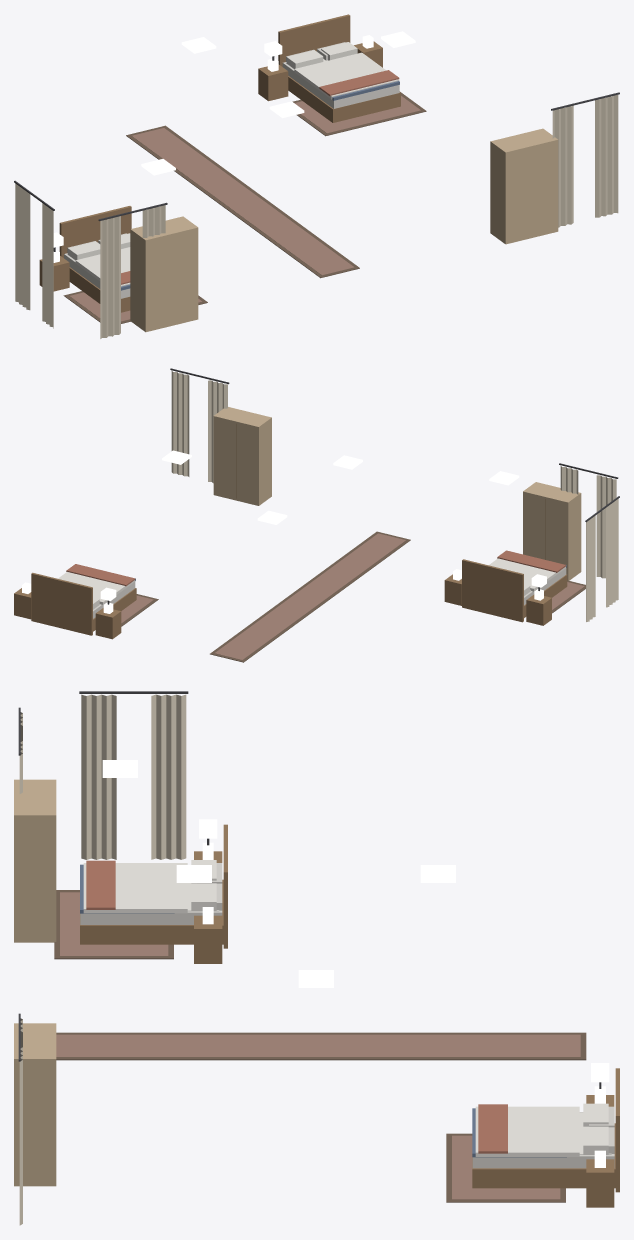
The model's file is fine-s1.glb.
3 renders of one model, top to bottom at view 1: azimuth 30°, elevation 25°; view 2: azimuth 150°, elevation 25°; view 3: azimuth 270°, elevation 25°, orthographic. The views are drawn at different scales.
Visible parts, largest first — view 1: soft-s1, dresser.001, dresser.000, bed-frame.001, bed-frame.000, nightstand.002, nightstand.000, nightstand.003; view 2: soft-s1, dresser.001, dresser.000, bed-frame.000, bed-frame.001, nightstand.002, nightstand.000, nightstand.003, nightstand.001; view 3: soft-s1, dresser.000, dresser.001, bed-frame.001, bed-frame.000, nightstand.003, nightstand.001.
Boxes of the visible parts, left/top/right/bottom form: soft-s1: left=14, top=41, right=619, bottom=338; dresser.001: left=490, top=128, right=558, bottom=244; dresser.000: left=130, top=216, right=198, bottom=332; bed-frame.001: left=278, top=14, right=400, bottom=122; bed-frame.000: left=59, top=206, right=131, bottom=312; nightstand.002: left=258, top=58, right=288, bottom=101; nightstand.000: left=39, top=249, right=69, bottom=291; nightstand.003: left=354, top=35, right=382, bottom=67; soft-s1: left=58, top=368, right=619, bottom=662; dresser.001: left=213, top=407, right=271, bottom=505; dresser.000: left=523, top=482, right=581, bottom=580; bed-frame.000: left=462, top=559, right=567, bottom=622; bed-frame.001: left=31, top=572, right=136, bottom=635; nightstand.002: left=95, top=602, right=121, bottom=639; nightstand.000: left=526, top=589, right=551, bottom=625; nightstand.003: left=14, top=582, right=31, bottom=619; nightstand.001: left=444, top=569, right=461, bottom=605; soft-s1: left=18, top=691, right=611, bottom=1225; dresser.000: left=14, top=779, right=56, bottom=942; dresser.001: left=14, top=1023, right=56, bottom=1186; bed-frame.001: left=472, top=1068, right=619, bottom=1192; bed-frame.000: left=80, top=824, right=227, bottom=948; nightstand.003: left=586, top=1150, right=614, bottom=1207; nightstand.001: left=194, top=907, right=222, bottom=963.
Size of the model in its own units: 12.4 by 2.74 by 8.61.
